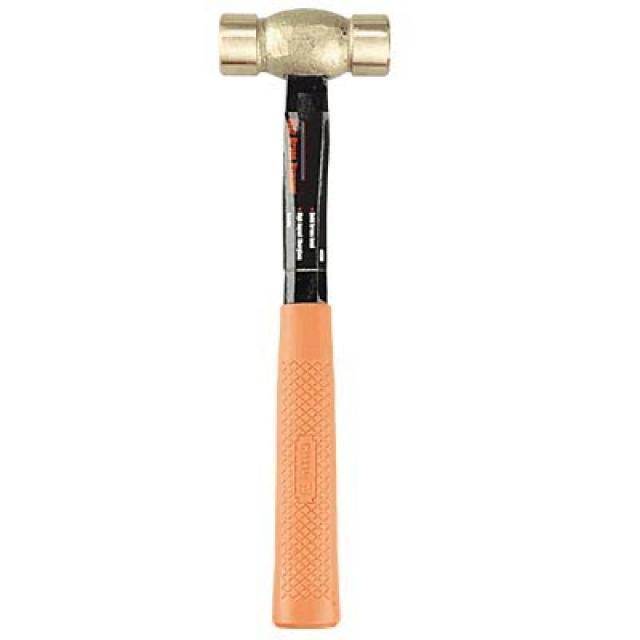hammer: (206, 0, 400, 640)
